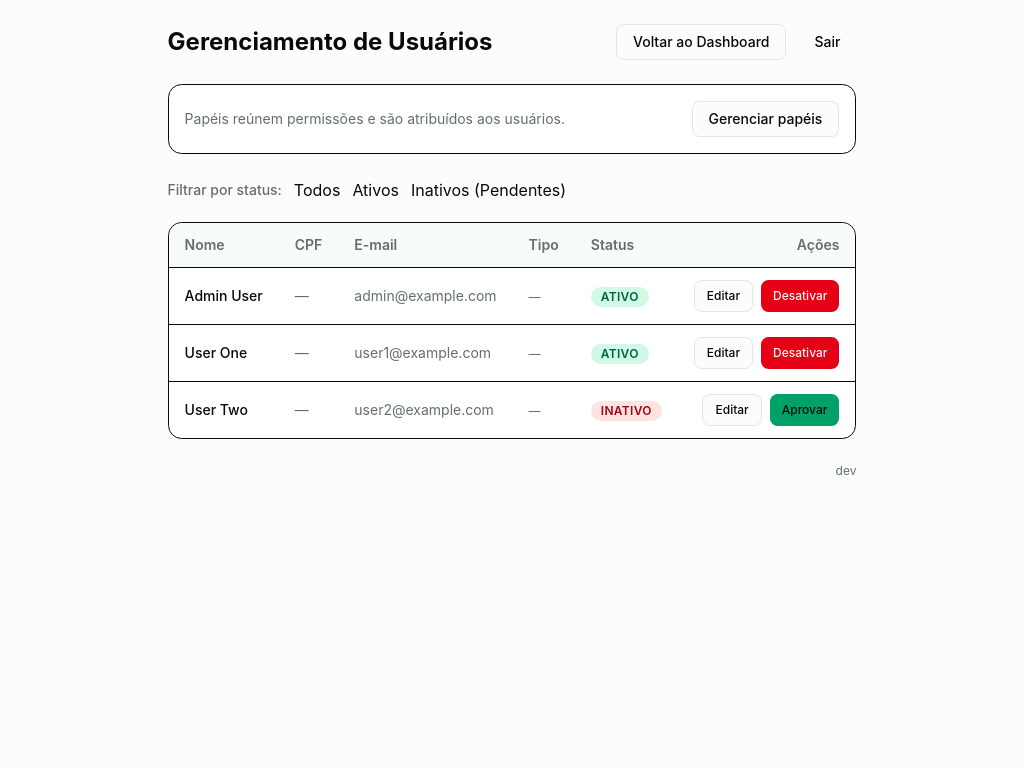
Test case: AdminUserDashboard › closes the error alert when close button is clicked
Expected: the text "Admin User" is shown, [169,268,279,324]
Trigger an error
Click the button "Desativar" in the row of "Admin User": point(800, 296) [761,280,839,312]
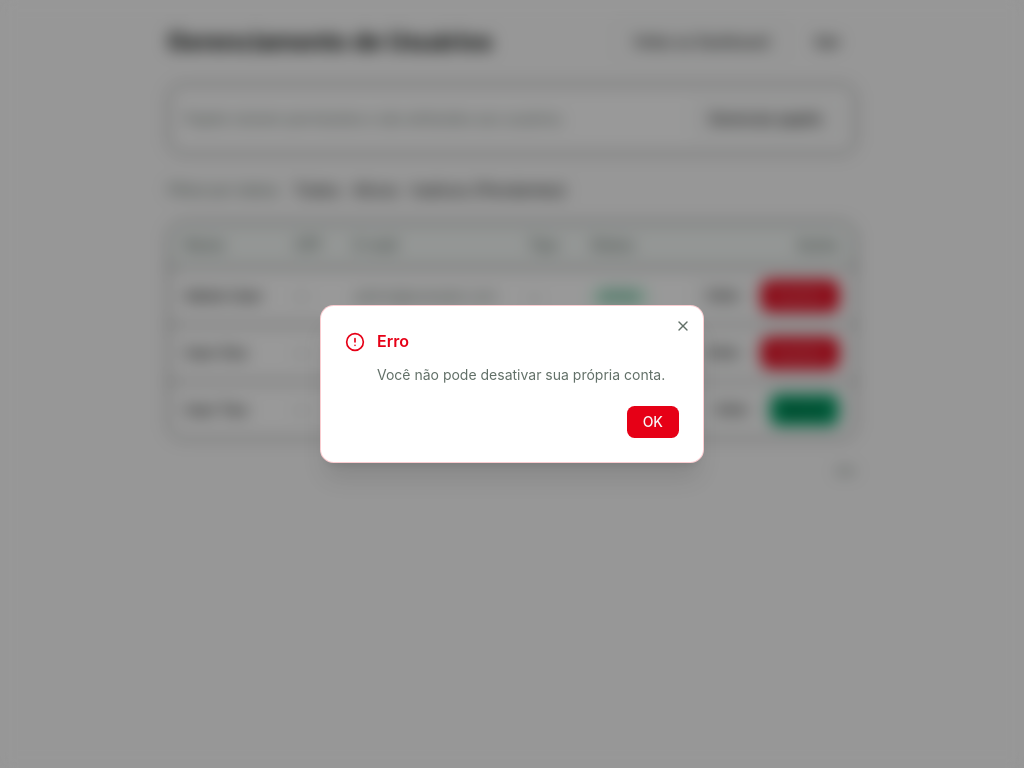
Expected: the text "Você não pode desativar sua própria conta." is shown, [345,364,679,386]
Click OK button on the AlertModal to close it
Click the button "OK": point(653, 422) [627,406,679,438]
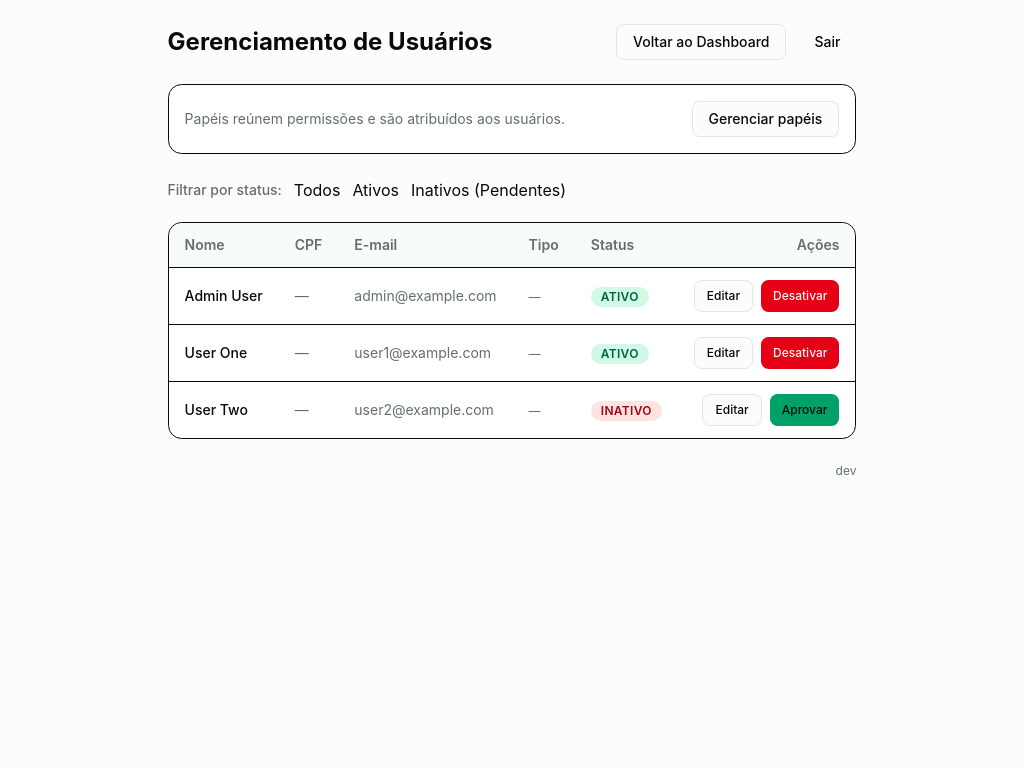
Expected: the text "Você não pode desativar sua própria conta." is gone
